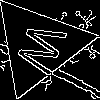W: (14, 20, 77, 81)
